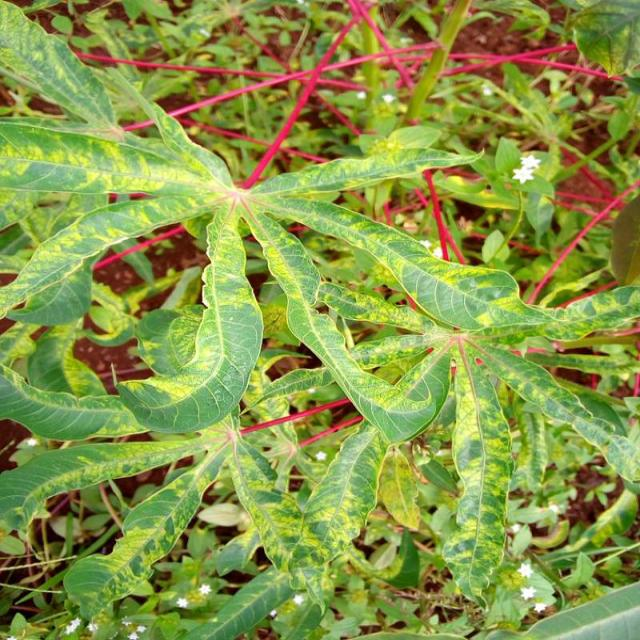cassava leaf: (1, 2, 638, 637), (114, 202, 263, 434)
